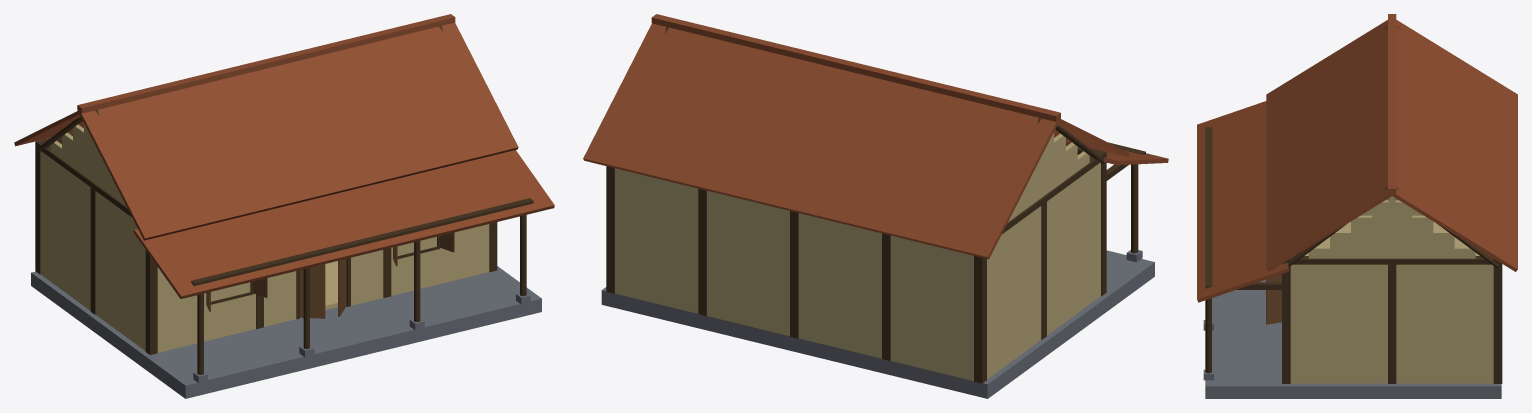
File: vietnamese-rural-farmhouse.glb
3 views of the same model, side by side, from view 1: azimuth 30°, elevation 25°; view 2: azimuth 150°, elevation 25°; view 3: azimuth 270°, elevation 25° (orthographic). The views are drawn at different scales.
Parts seen in each view (by area): view 1: Mesh_RoofA, Mesh_VerandaRoofTile, Mesh_Foundation, Mesh_HouseRoom_WallRight, Mesh_HouseRoom_WallFront_R, Mesh_HouseRoom_WallFront_L, Mesh_RidgeCap, Mesh_VerandaBeam, Mesh_Column_0, Mesh_RightDoorMesh, Mesh_Gable2_1, Mesh_Gable1_1 (+11 smaller); view 2: Mesh_RoofB, Mesh_HouseRoom_WallBack, Mesh_HouseRoom_WallRight, Mesh_Foundation, Mesh_RidgeCap, Mesh_Column_2, Mesh_Column_8, Mesh_Column_6, Mesh_Column_7, Mesh_Column_3, Mesh_Gable2_1, Mesh_Gable1_1 (+7 smaller); view 3: Mesh_HouseRoom_WallLeft, Mesh_RoofA, Mesh_RoofB, Mesh_VerandaRoofTile, Mesh_Foundation, Mesh_Gable2_0, Mesh_Gable1_0, Mesh_RidgeCap, Mesh_Beam_Left, Mesh_Gable3_0, Mesh_VerandaBeam, Mesh_Column_3 (+6 smaller).
Boxes of the visible parts, bbox=[...] form: Mesh_RoofA: bbox=[79, 22, 518, 240]; Mesh_VerandaRoofTile: bbox=[133, 150, 554, 298]; Mesh_Foundation: bbox=[31, 266, 541, 398]; Mesh_HouseRoom_WallRight: bbox=[40, 151, 145, 350]; Mesh_HouseRoom_WallFront_R: bbox=[157, 267, 296, 352]; Mesh_HouseRoom_WallFront_L: bbox=[351, 224, 489, 305]; Mesh_RidgeCap: bbox=[77, 14, 455, 113]; Mesh_VerandaBeam: bbox=[190, 198, 533, 286]; Mesh_Column_0: bbox=[145, 250, 157, 354]; Mesh_RightDoorMesh: bbox=[300, 264, 325, 318]; Mesh_Gable2_1: bbox=[62, 132, 117, 189]; Mesh_Gable1_1: bbox=[51, 140, 126, 206]; Mesh_RoofB: bbox=[583, 23, 1058, 259]; Mesh_HouseRoom_WallBack: bbox=[615, 168, 973, 380]; Mesh_HouseRoom_WallRight: bbox=[987, 162, 1100, 379]; Mesh_Foundation: bbox=[601, 250, 1154, 398]; Mesh_RidgeCap: bbox=[651, 14, 1060, 121]; Mesh_Column_2: bbox=[974, 256, 986, 383]; Mesh_Column_8: bbox=[882, 233, 890, 360]; Mesh_Column_6: bbox=[698, 188, 706, 316]; Mesh_Column_7: bbox=[790, 211, 798, 338]; Mesh_Column_3: bbox=[606, 166, 614, 293]; Mesh_Gable2_1: bbox=[1017, 142, 1077, 203]; Mesh_Gable1_1: bbox=[1008, 151, 1089, 222]; Mesh_HouseRoom_WallLeft: bbox=[1290, 264, 1493, 383]; Mesh_RoofA: bbox=[1266, 20, 1392, 271]; Mesh_RoofB: bbox=[1392, 20, 1517, 271]; Mesh_VerandaRoofTile: bbox=[1197, 101, 1288, 302]; Mesh_Foundation: bbox=[1205, 279, 1501, 398]; Mesh_Gable2_0: bbox=[1330, 231, 1454, 248]; Mesh_Gable1_0: bbox=[1308, 246, 1475, 258]; Mesh_RidgeCap: bbox=[1388, 14, 1396, 193]; Mesh_Beam_Left: bbox=[1287, 256, 1500, 264]; Mesh_Gable3_0: bbox=[1351, 215, 1433, 232]; Mesh_VerandaBeam: bbox=[1205, 127, 1212, 288]; Mesh_Column_3: bbox=[1493, 264, 1502, 383].
Bounding box in the file's own units: 8.8 × 5.02 × 6.82.
Materials: 2 (2 with a texture image).
